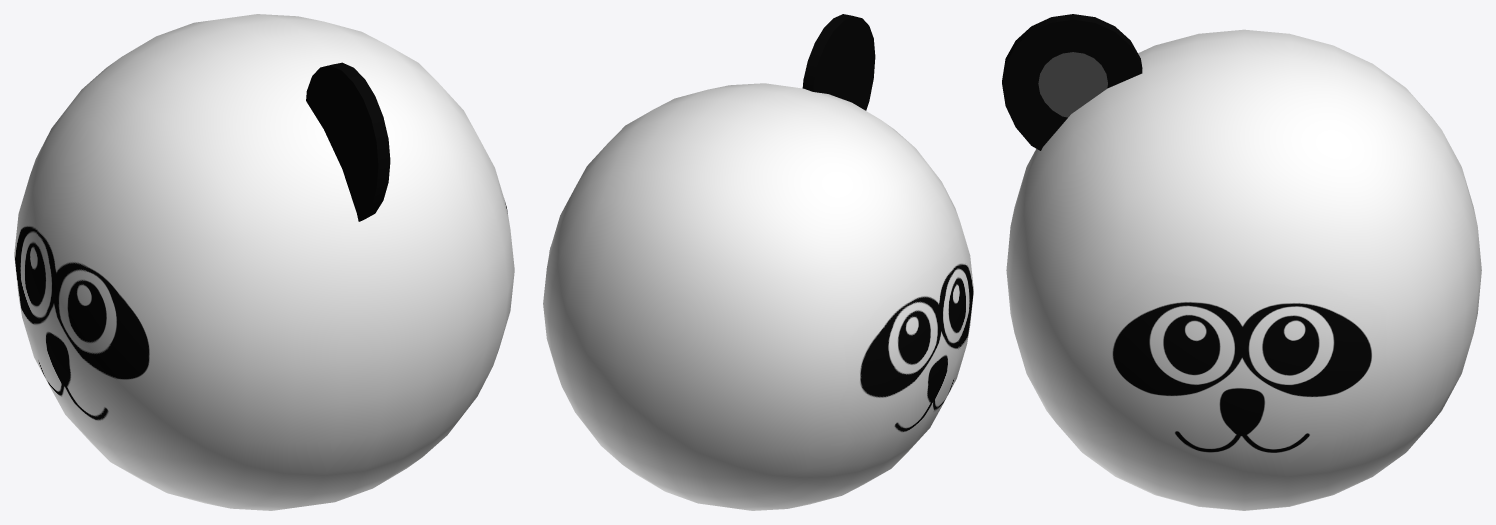
Rendered from panda.1.fbx.
3 views of the same model, side by side, from view 1: azimuth 30°, elevation 25°; view 2: azimuth 150°, elevation 25°; view 3: azimuth 270°, elevation 25° (orthographic). The views are drawn at different scales.
Visible parts, largest first — view 1: polySurface29; view 2: polySurface29; view 3: polySurface29.
Part boxes in pixels (left/top/right/bottom): polySurface29: left=14, top=14, right=514, bottom=510; polySurface29: left=543, top=14, right=973, bottom=510; polySurface29: left=1002, top=14, right=1481, bottom=510.
Bounding box in the file's own units: 4.25 × 4.6 × 4.28.
